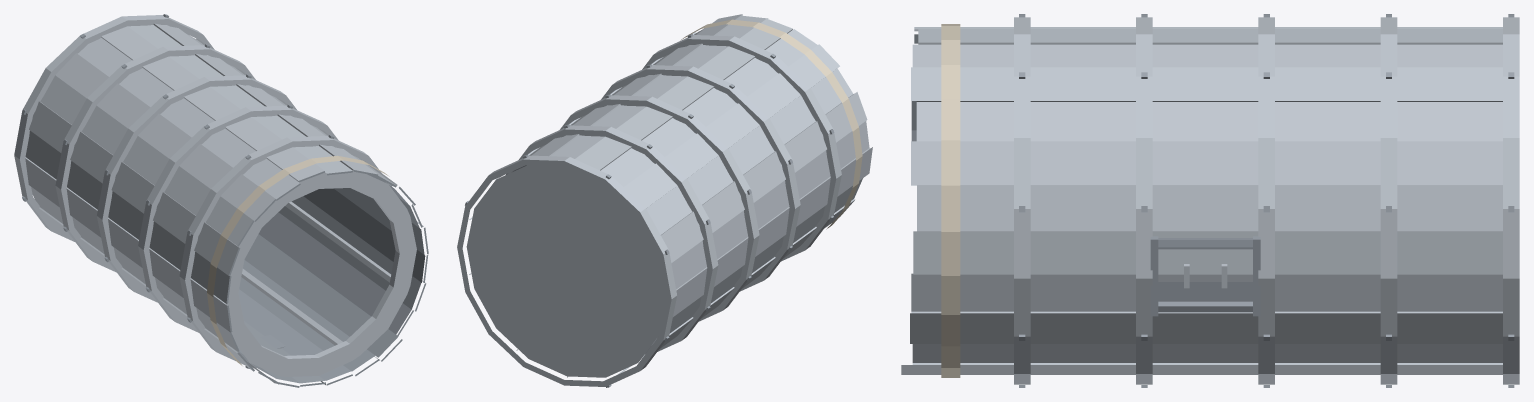
File: sec-b1.glb
The picture shows the model from 3 angles, left to right: view 1: azimuth 30°, elevation 25°; view 2: azimuth 150°, elevation 25°; view 3: azimuth 270°, elevation 25°; orthographic projection. The views are drawn at different scales.
Parts seen in each view (by area): view 1: plate, steel, steelDark, hazard; view 2: steel, plate, hazard, steelDark; view 3: plate, steel, hazard, steelDark.
Part boxes in pixels (left/top/right/bottom): plate: left=25, top=23, right=425, bottom=384; steel: left=14, top=15, right=416, bottom=376; steelDark: left=22, top=14, right=428, bottom=387; hazard: left=207, top=155, right=389, bottom=365; steel: left=457, top=35, right=841, bottom=386; plate: left=469, top=14, right=872, bottom=377; hazard: left=680, top=19, right=862, bottom=229; steelDark: left=465, top=34, right=834, bottom=387; plate: left=901, top=27, right=1502, bottom=374; steel: left=1014, top=17, right=1519, bottom=384; hazard: left=941, top=24, right=960, bottom=377; steelDark: left=911, top=14, right=1514, bottom=387.
Size of the model in its own units: 6.62 by 6.62 by 11.13.
